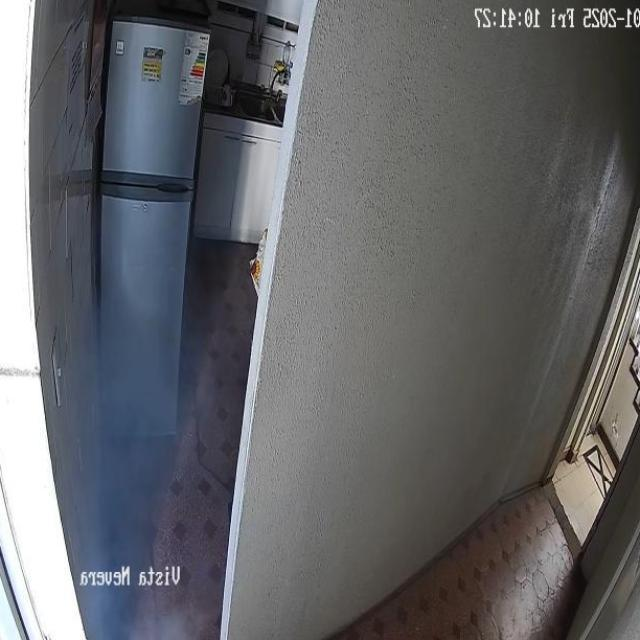fire: (71, 287, 226, 640)
